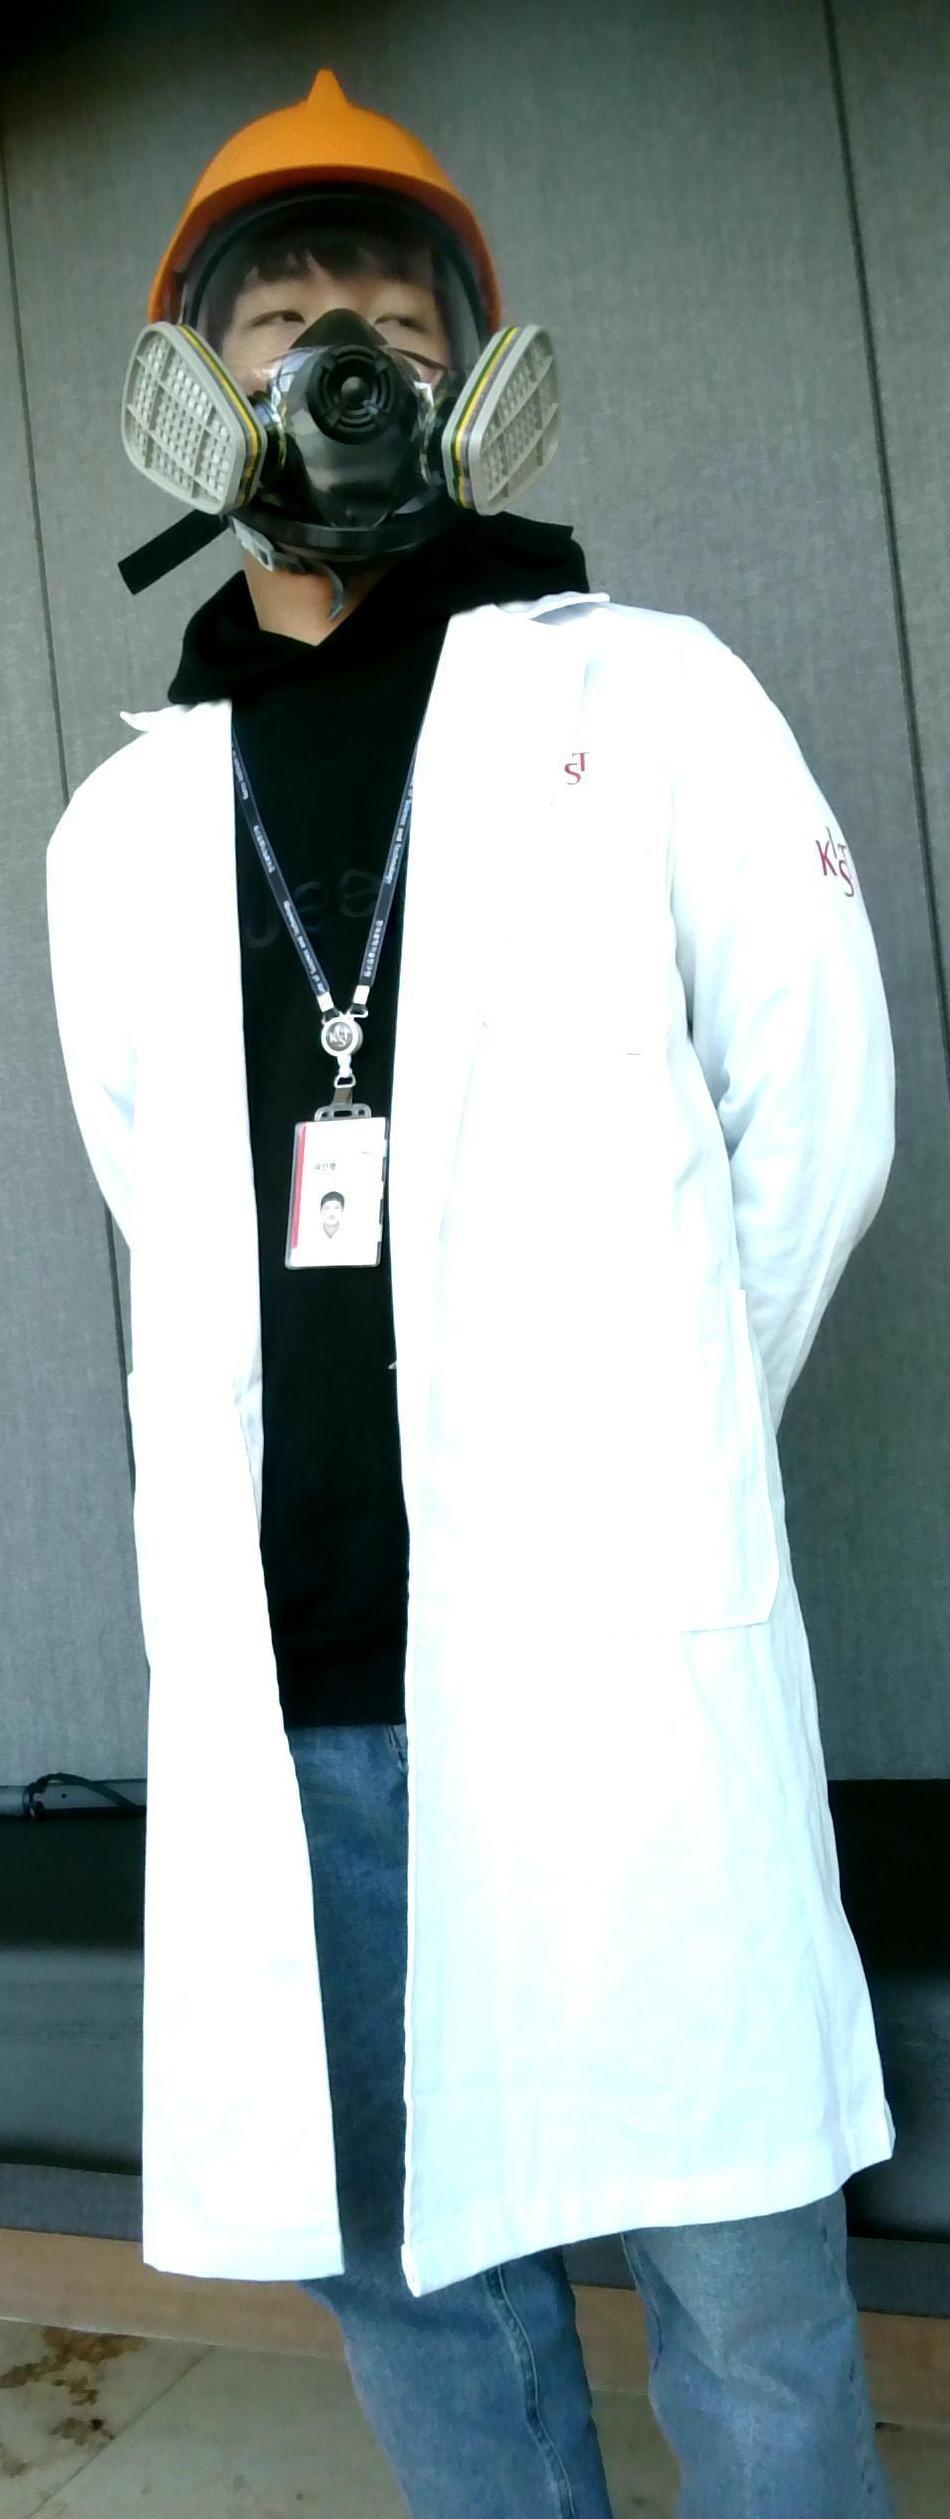lab_coat: (11, 700, 940, 2209)
